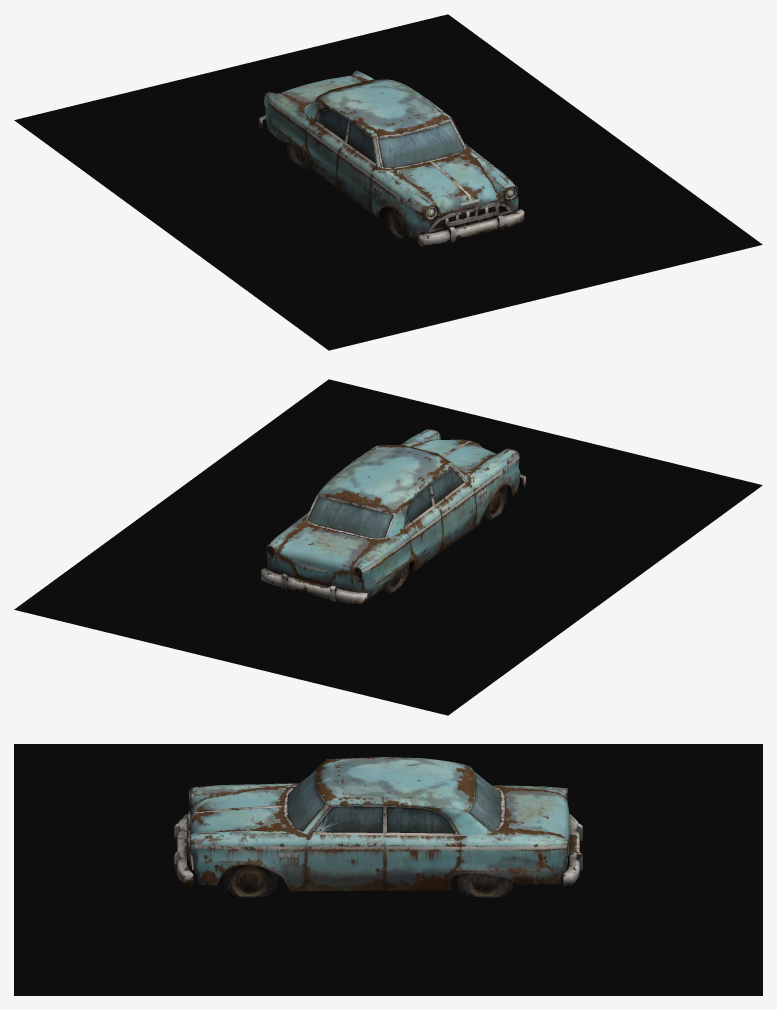
Rendered from coche_oxidado.glb.
The picture shows the model from 3 angles, top to bottom: view 1: azimuth 30°, elevation 25°; view 2: azimuth 150°, elevation 25°; view 3: azimuth 270°, elevation 25°; orthographic projection. The views are drawn at different scales.
Visible parts, largest first — view 1: Plane001_Material #316_0, Object006_Material #294_0, Object007_Material #295_0; view 2: Plane001_Material #316_0, Object006_Material #294_0, Object007_Material #295_0; view 3: Plane001_Material #316_0, Object006_Material #294_0, Object007_Material #295_0.
Boxes of the visible parts, bbox=[...] form: Plane001_Material #316_0: bbox=[14, 14, 762, 350]; Object006_Material #294_0: bbox=[259, 70, 524, 246]; Object007_Material #295_0: bbox=[317, 110, 463, 167]; Plane001_Material #316_0: bbox=[14, 379, 762, 715]; Object006_Material #294_0: bbox=[261, 429, 525, 604]; Object007_Material #295_0: bbox=[308, 469, 465, 538]; Plane001_Material #316_0: bbox=[14, 744, 762, 995]; Object006_Material #294_0: bbox=[174, 757, 582, 897]; Object007_Material #295_0: bbox=[287, 771, 501, 833].
Size of the model in its own units: 1056 by 185 by 1327.
3 materials, 3 textured.
